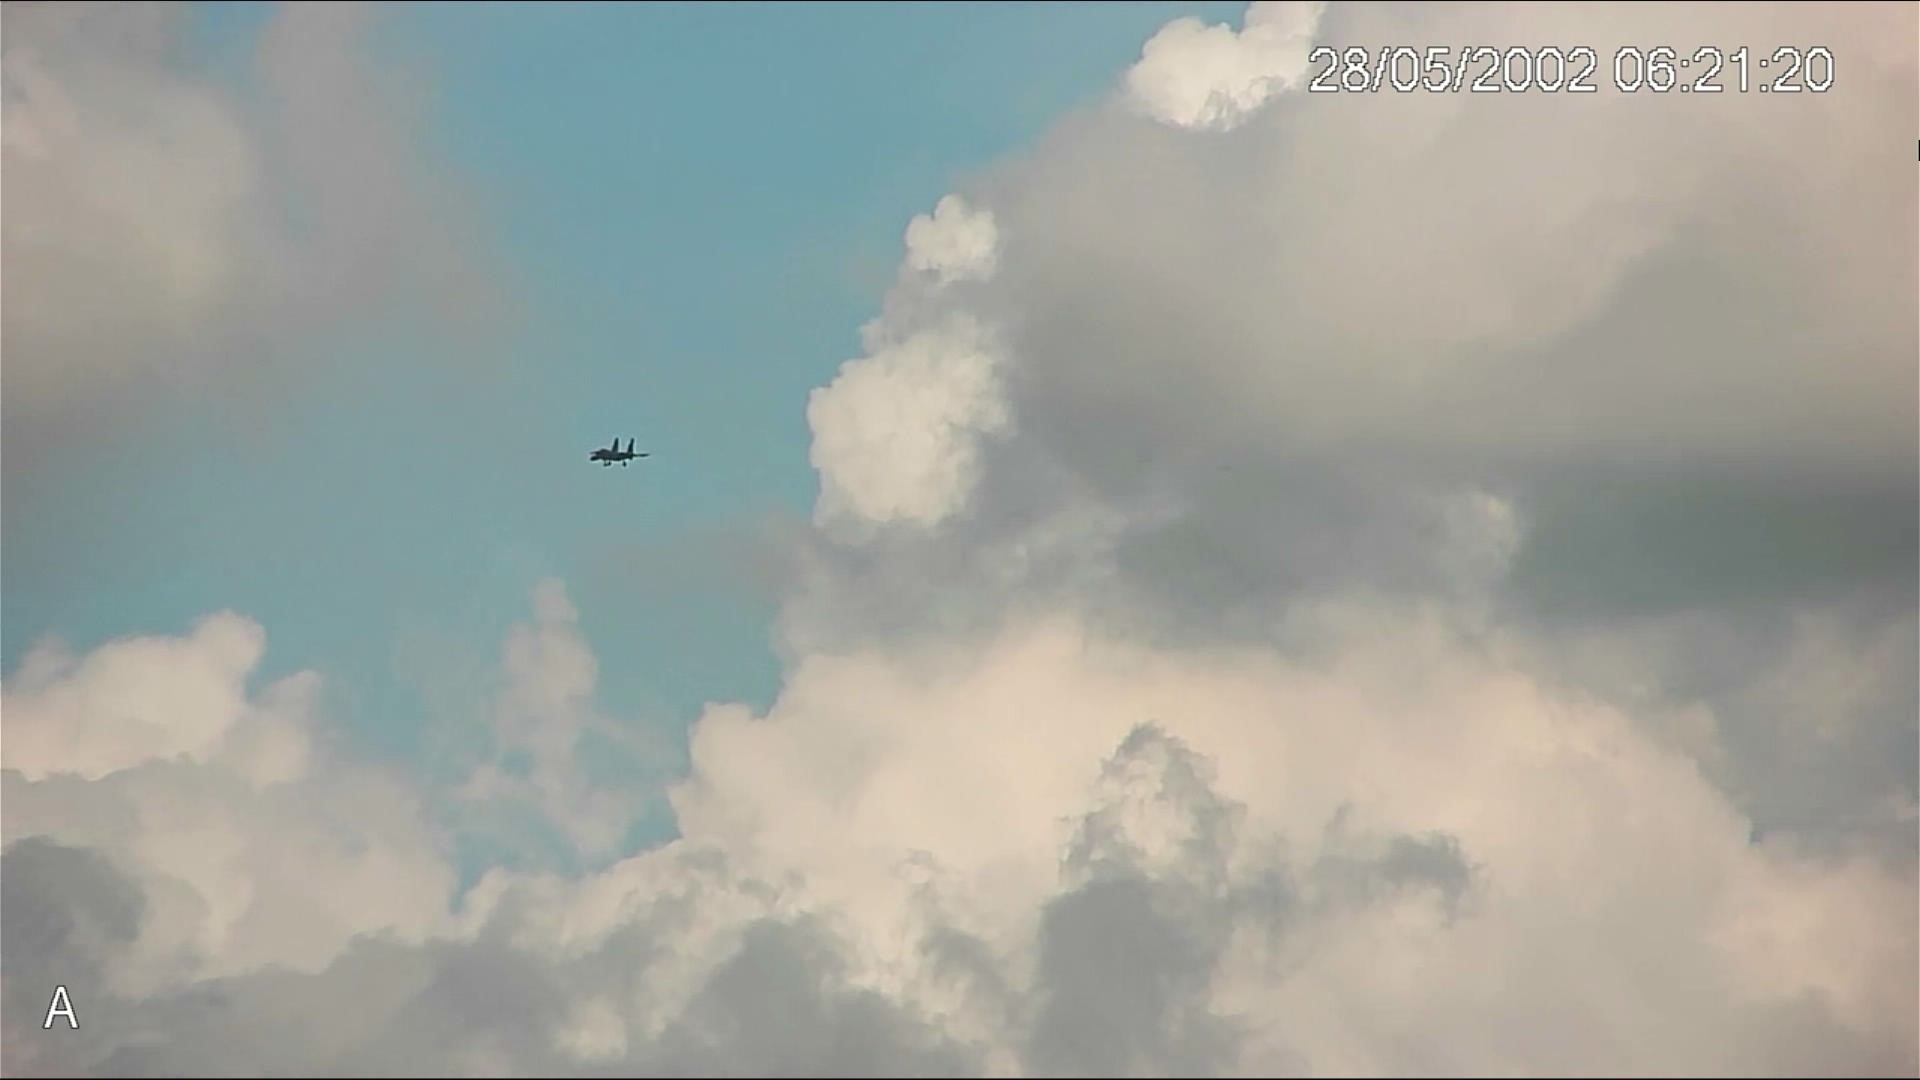SU_30: (584, 434, 654, 469)
